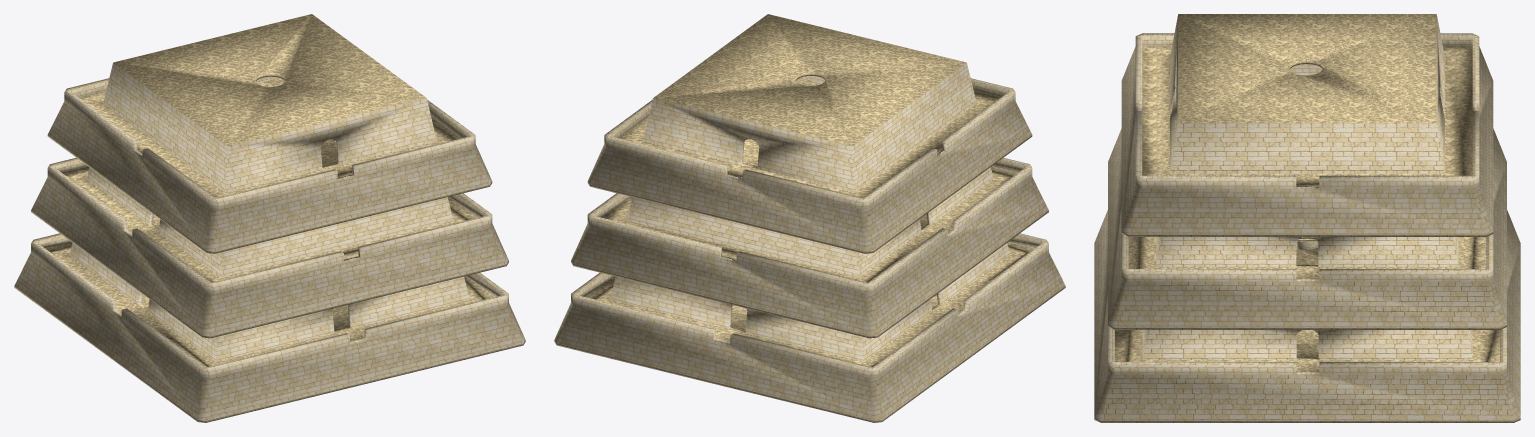
Rendered from canton.fbx.
3 renders of one model, left to right at view 1: azimuth 30°, elevation 25°; view 2: azimuth 150°, elevation 25°; view 3: azimuth 270°, elevation 25°, orthographic. The views are drawn at different scales.
Parts seen in each view (by area): view 1: canton; view 2: canton; view 3: canton.
Boxes of the visible parts, box(x1,y1,x2,y2) form: canton: box(14, 14, 525, 422); canton: box(554, 14, 1065, 422); canton: box(1094, 14, 1520, 422).
Size of what is drawn, in the model's own units: 155 by 106 by 155.
